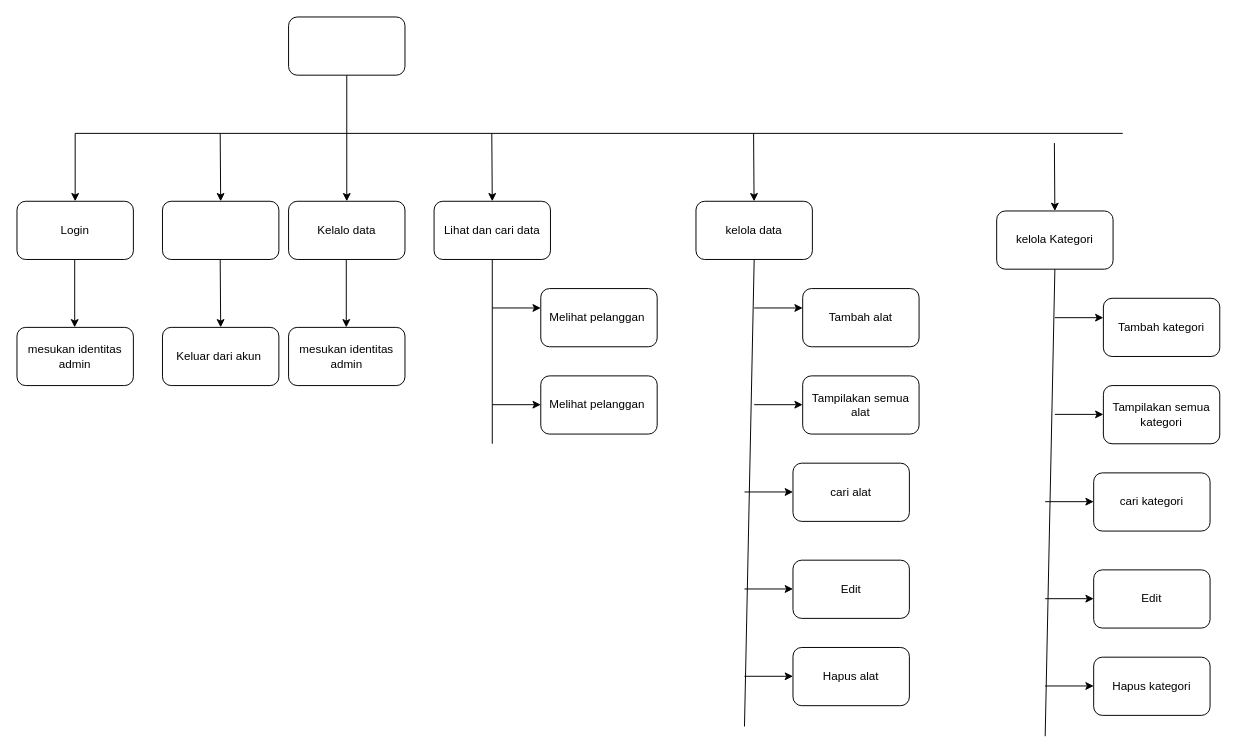
This 1237x755 diagram has some shape labels left out. Here are the shapes that lost their labels. From the top down, the centre of each, then its label:
At pixel 346 45: "Admin".
At pixel 220 229: "Log o ut".
